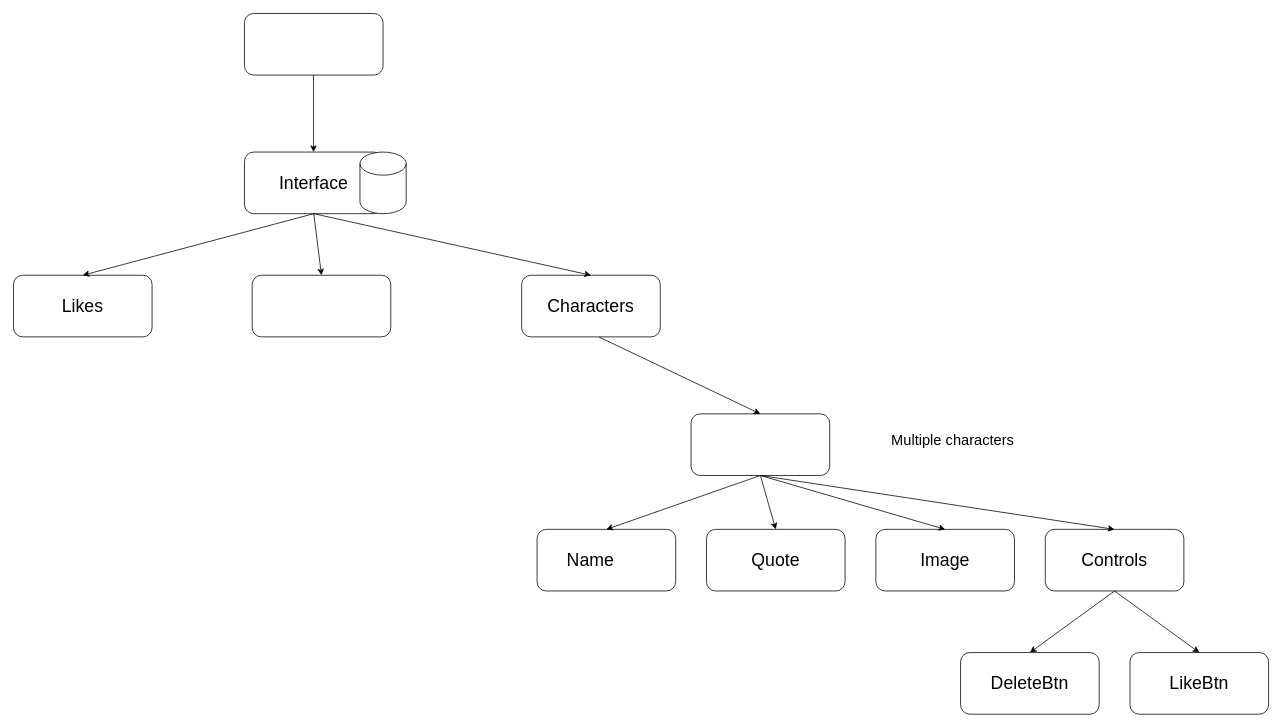
This 1282x728 diagram has some shape labels left out. Here are the shapes that lost their labels. From the top down, the centre of each, then its label:
At point 313,44: "App".
At point 382,182: "State".
At point 321,306: "Search".
At point 760,444: "Character".
